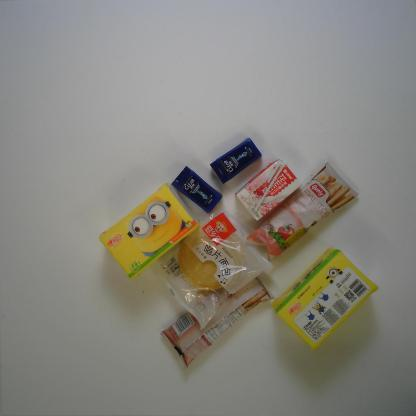Dessert: (146, 205, 278, 332), (247, 156, 362, 262), (159, 270, 275, 372)
Milk: (233, 157, 304, 222)
Personal Hygiene: (169, 164, 224, 216), (209, 136, 263, 185)
Tissue: (271, 245, 380, 354), (96, 182, 202, 282)
